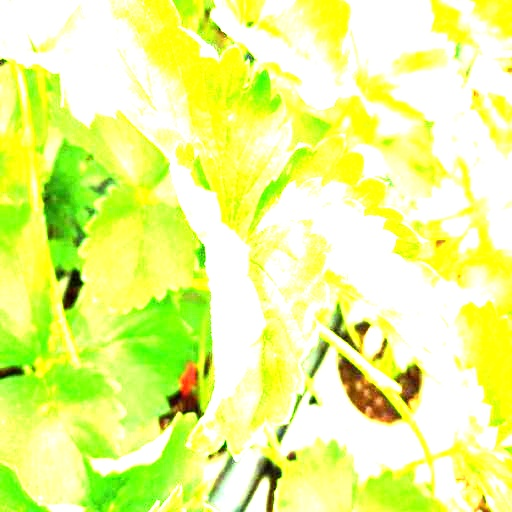Powdery Mildew Leaf: (170, 137, 331, 461), (80, 0, 295, 233), (248, 131, 448, 371), (209, 0, 355, 112), (445, 297, 511, 511)
